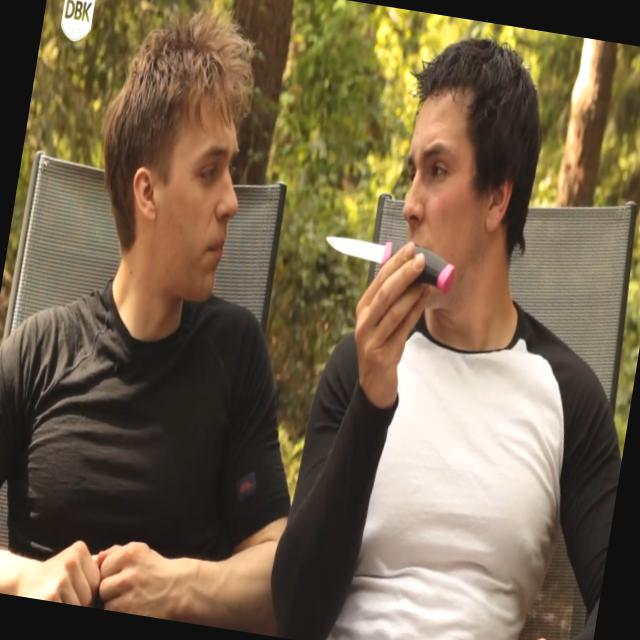knife: (312, 215, 470, 314)
